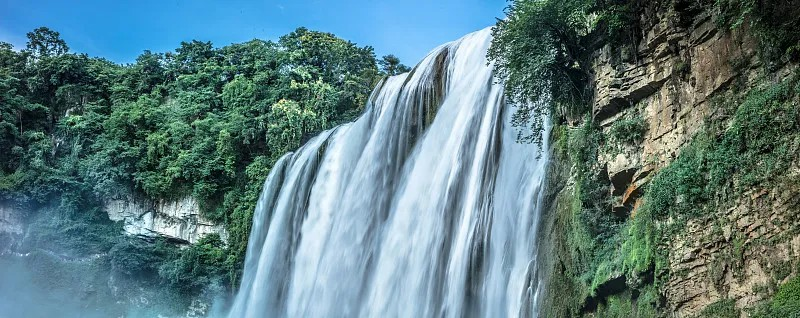Huangguoshu: (231, 24, 548, 318)
